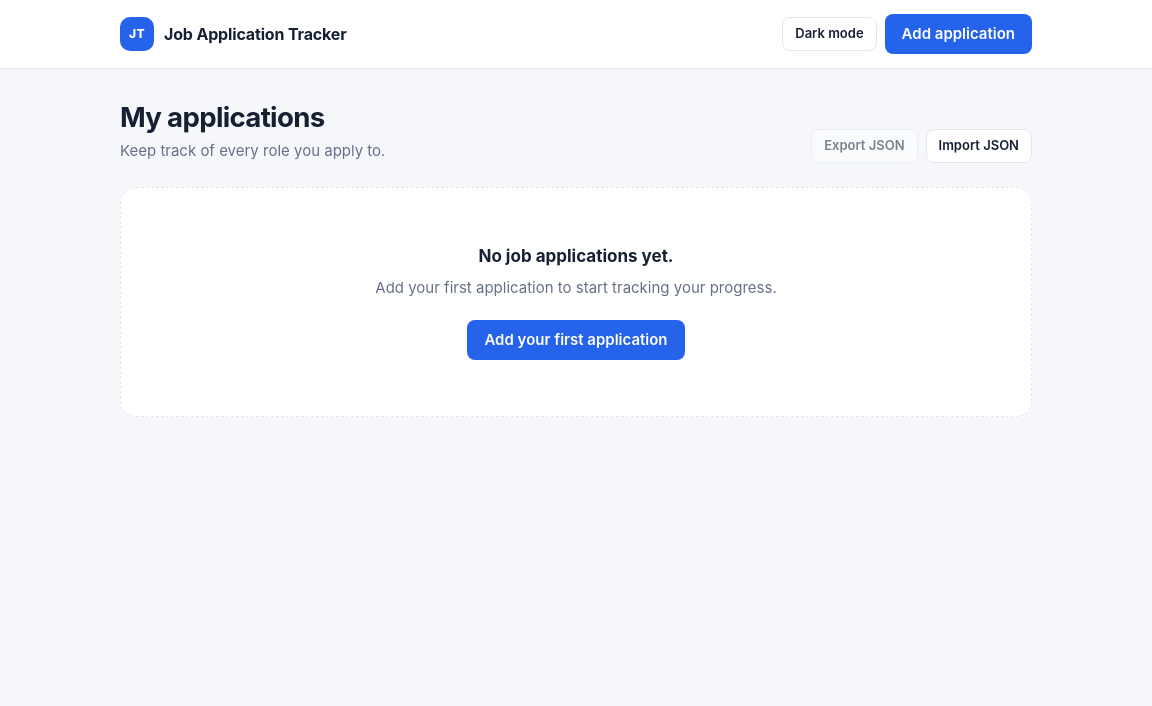
Test: adds a job application and returns to the dashboard
Click the link "Add application" at [958, 34], box [885,14,1032,54]
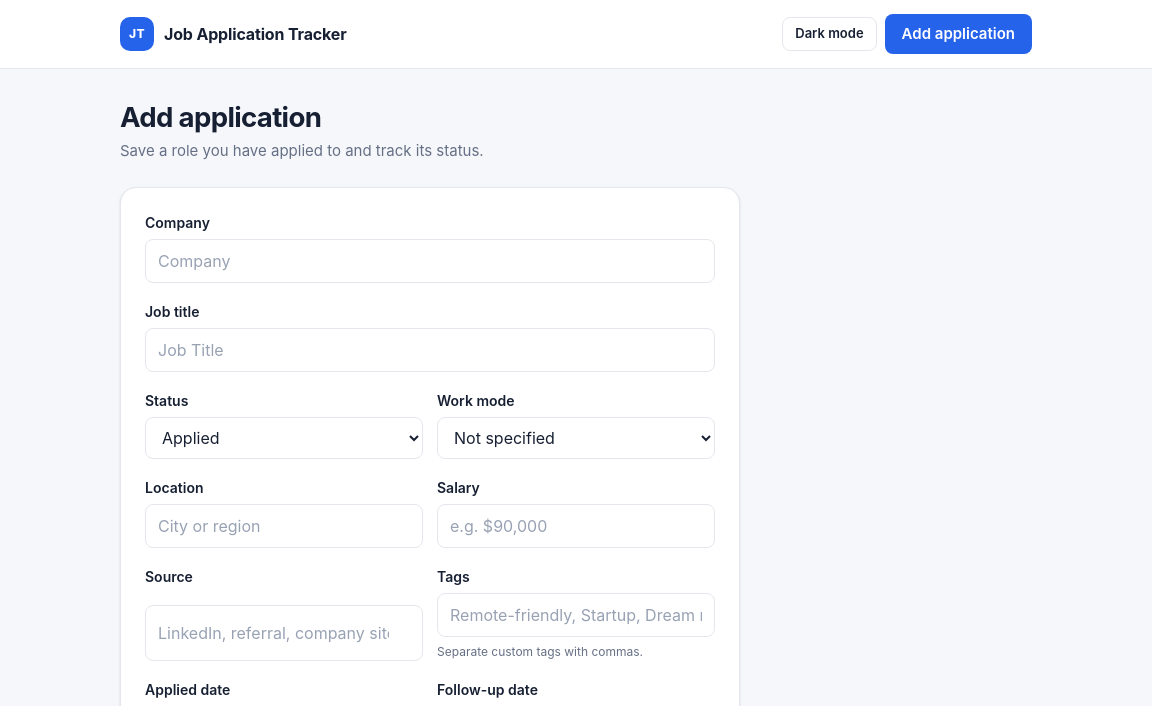
Type "Acme" into the field with placeholder "Company" at [430, 261], box [145,239,715,283]
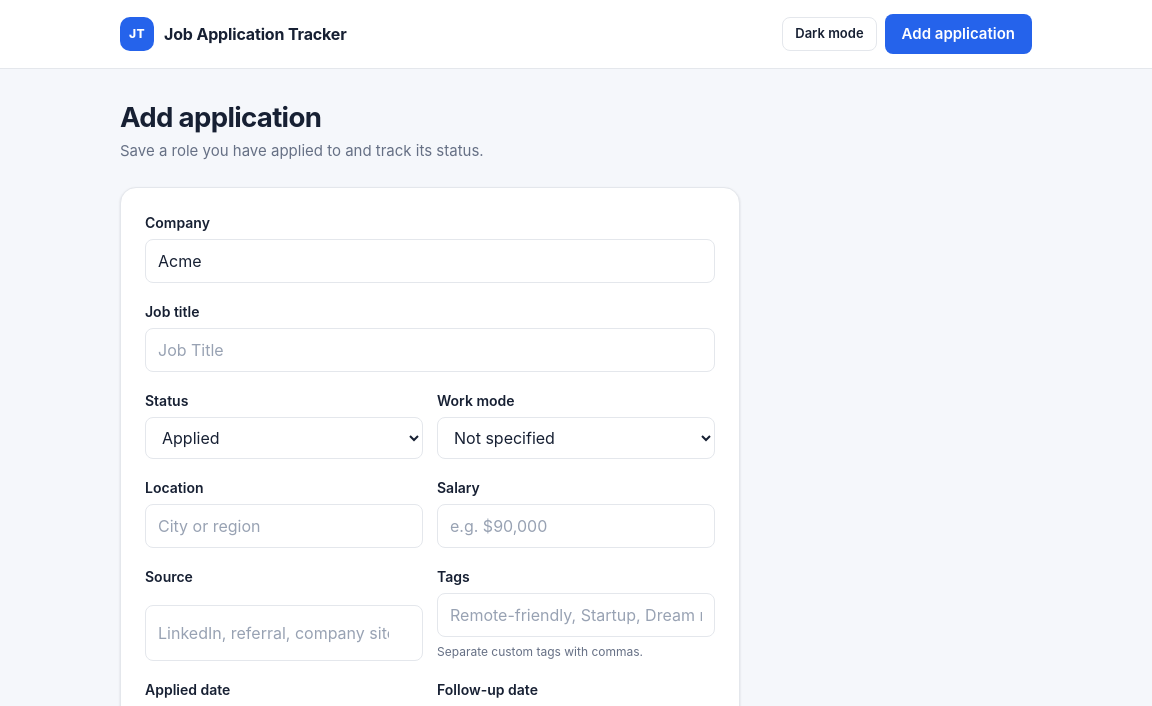
Type "Engineer" into the field with placeholder "Job title" at [430, 350], box [145,328,715,372]
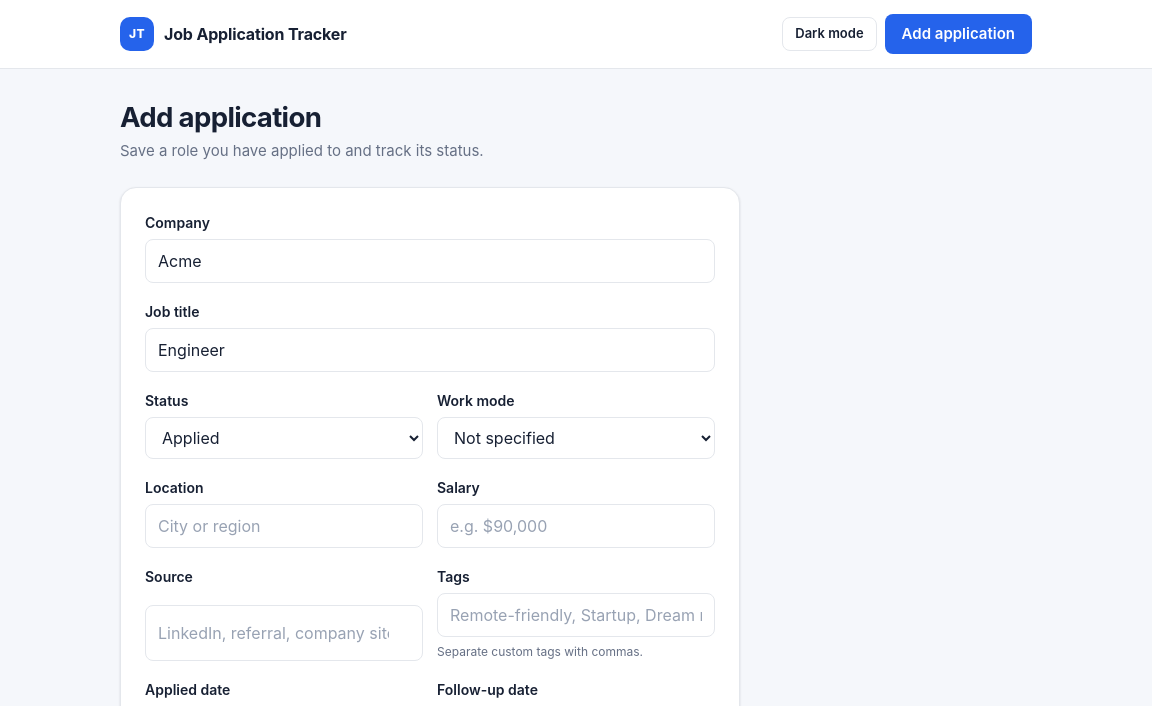
Select "Interview" in the dropdown labelled "Status" at [284, 438], box [145,417,423,459]
(page scrolled)
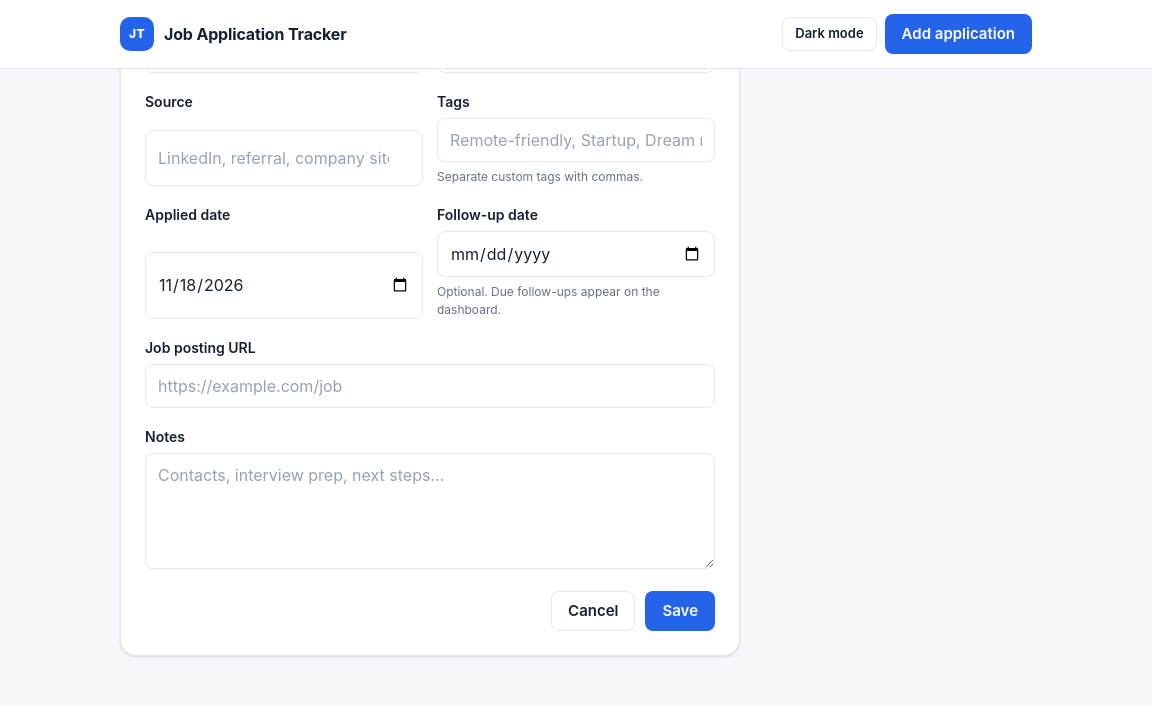
Click the button "Save" at [680, 611], box [646,591,715,631]
(page scrolled)
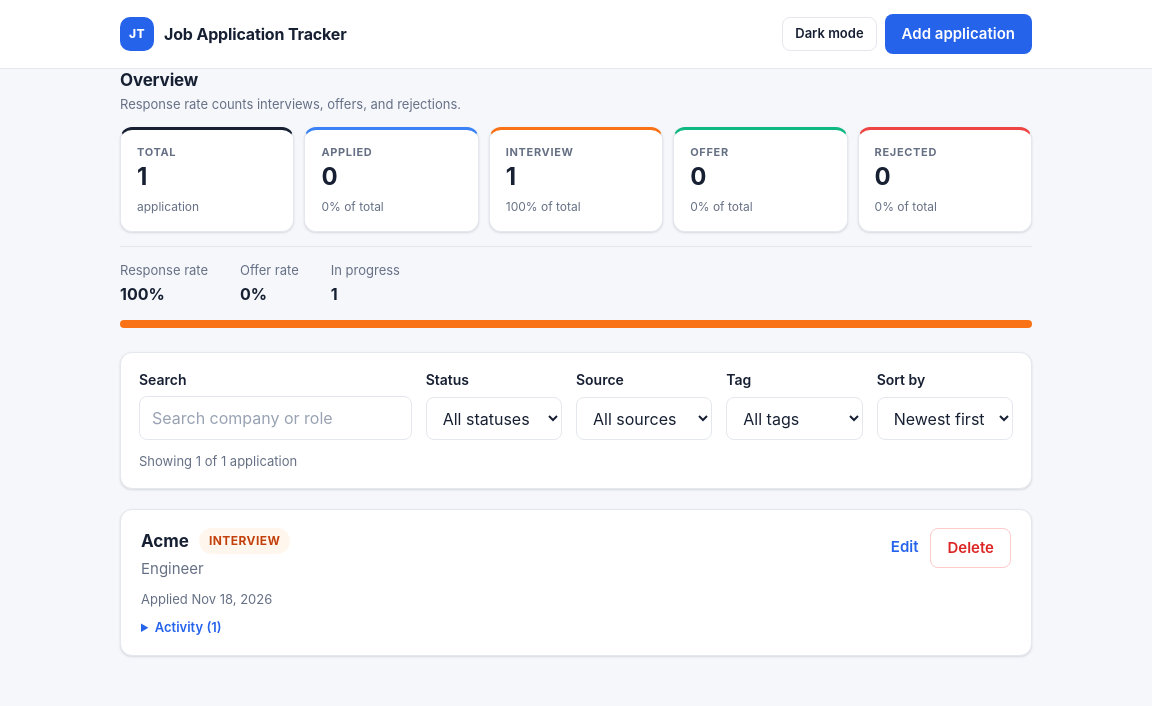
Now the heading "Acme" is shown, box [141,530,189,552]
